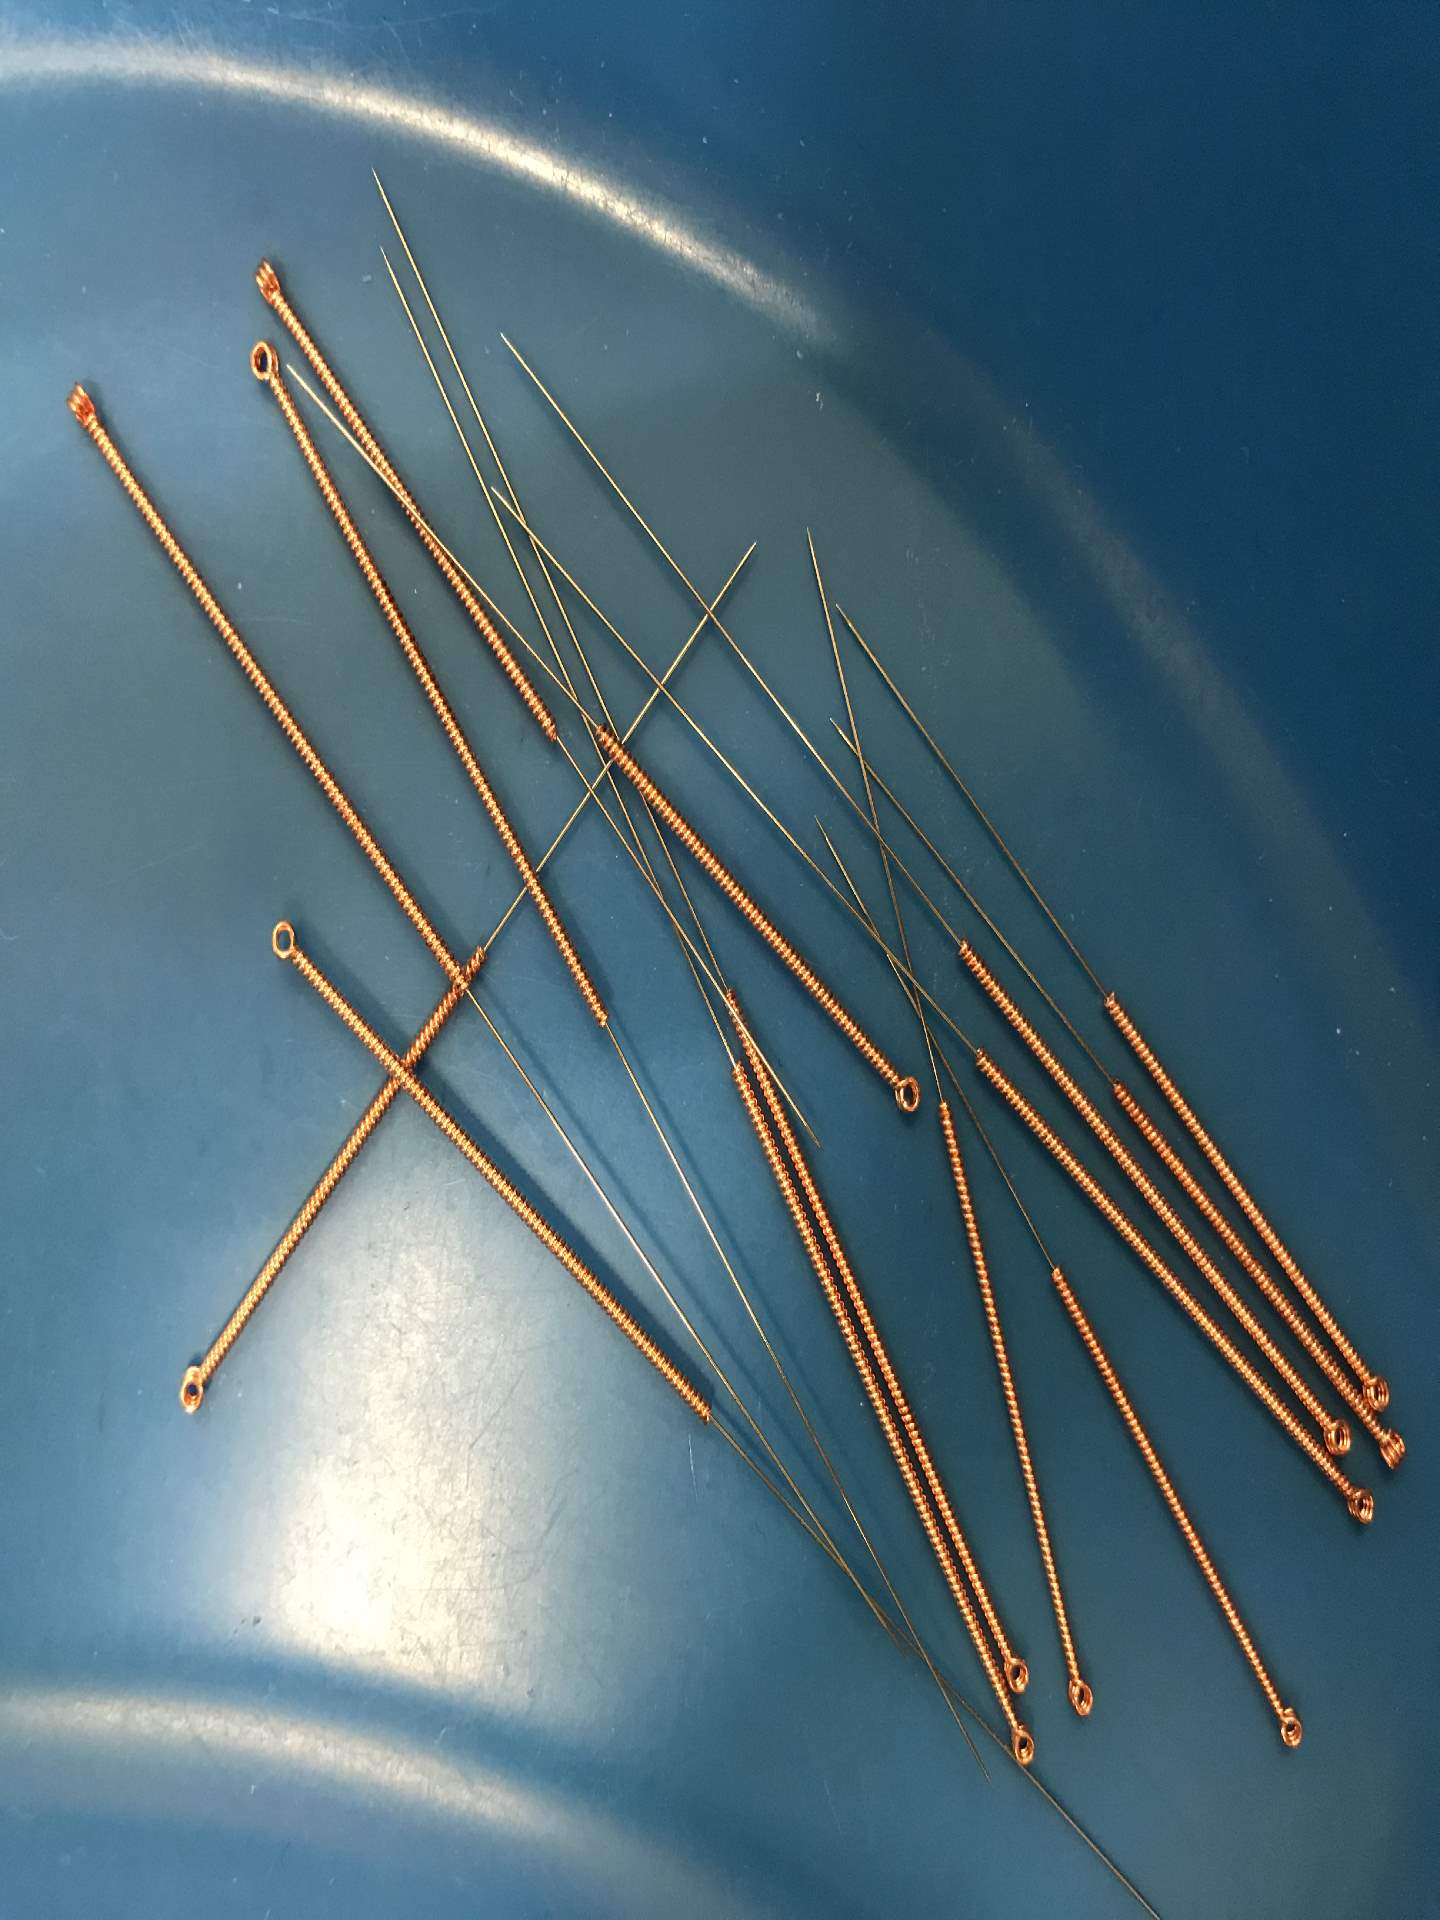needle: (1051, 1657, 1109, 1731), (257, 910, 316, 980), (1258, 1695, 1321, 1760), (163, 1350, 216, 1426), (1327, 1469, 1386, 1536), (54, 373, 110, 443), (242, 240, 293, 316), (874, 1057, 930, 1125), (992, 1711, 1047, 1773), (237, 330, 286, 398), (1364, 1420, 1416, 1476), (1358, 1352, 1399, 1414), (998, 1636, 1038, 1696), (1321, 1404, 1361, 1460)
